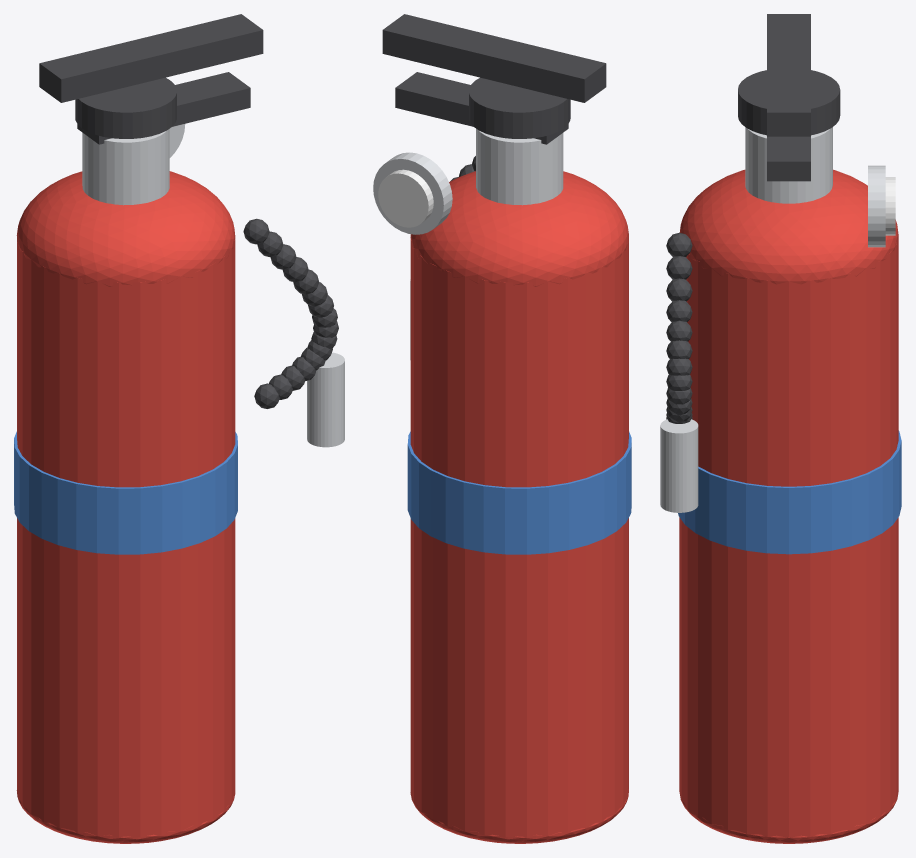
Rendered from extinguisher_water.glb.
The picture shows the model from 3 angles, left to right: view 1: azimuth 30°, elevation 25°; view 2: azimuth 150°, elevation 25°; view 3: azimuth 270°, elevation 25°; orthographic projection.
Visible parts, largest first — view 1: extinguisher_water_0, extinguisher_water_1, extinguisher_water_3, extinguisher_water_6, extinguisher_water_4, extinguisher_water_5, extinguisher_water_26, extinguisher_water_7, extinguisher_water_2; view 2: extinguisher_water_0, extinguisher_water_1, extinguisher_water_3, extinguisher_water_6, extinguisher_water_4, extinguisher_water_5, extinguisher_water_7, extinguisher_water_8, extinguisher_water_9, extinguisher_water_2; view 3: extinguisher_water_0, extinguisher_water_1, extinguisher_water_3, extinguisher_water_6, extinguisher_water_4, extinguisher_water_26, extinguisher_water_5, extinguisher_water_7, extinguisher_water_8, extinguisher_water_2, extinguisher_water_9, extinguisher_water_10 (+4 smaller).
Part boxes in pixels (x1,y1,x2,y2): extinguisher_water_0: (17, 239, 235, 837); extinguisher_water_1: (16, 171, 235, 286); extinguisher_water_3: (14, 431, 237, 554); extinguisher_water_6: (39, 14, 263, 102); extinguisher_water_4: (82, 129, 169, 205); extinguisher_water_5: (75, 77, 176, 138); extinguisher_water_26: (307, 352, 344, 447); extinguisher_water_7: (77, 72, 250, 144); extinguisher_water_2: (16, 790, 234, 843); extinguisher_water_0: (410, 238, 628, 837); extinguisher_water_1: (410, 171, 628, 286); extinguisher_water_3: (407, 431, 631, 554); extinguisher_water_6: (382, 14, 606, 102); extinguisher_water_4: (476, 128, 563, 205); extinguisher_water_5: (469, 77, 570, 138); extinguisher_water_7: (395, 72, 568, 144); extinguisher_water_8: (373, 152, 452, 234); extinguisher_water_9: (378, 169, 433, 227); extinguisher_water_2: (411, 789, 628, 843); extinguisher_water_0: (679, 236, 898, 837); extinguisher_water_1: (679, 169, 898, 284); extinguisher_water_3: (678, 430, 901, 554); extinguisher_water_6: (767, 14, 810, 136); extinguisher_water_4: (745, 127, 832, 203); extinguisher_water_26: (660, 419, 698, 512); extinguisher_water_5: (738, 70, 840, 135); extinguisher_water_7: (767, 136, 810, 181); extinguisher_water_8: (868, 165, 885, 247); extinguisher_water_2: (679, 793, 898, 843); extinguisher_water_9: (885, 177, 895, 235); extinguisher_water_10: (666, 232, 692, 256).
Bounding box in the file's own units: 0.205 × 0.5778 × 0.165.
